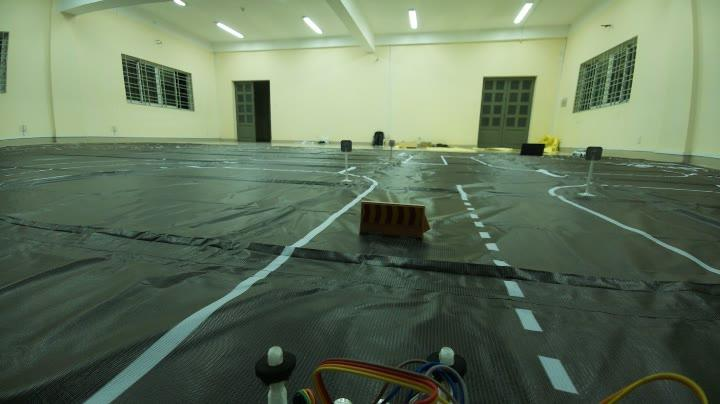roadblock: (354, 191, 434, 244)
